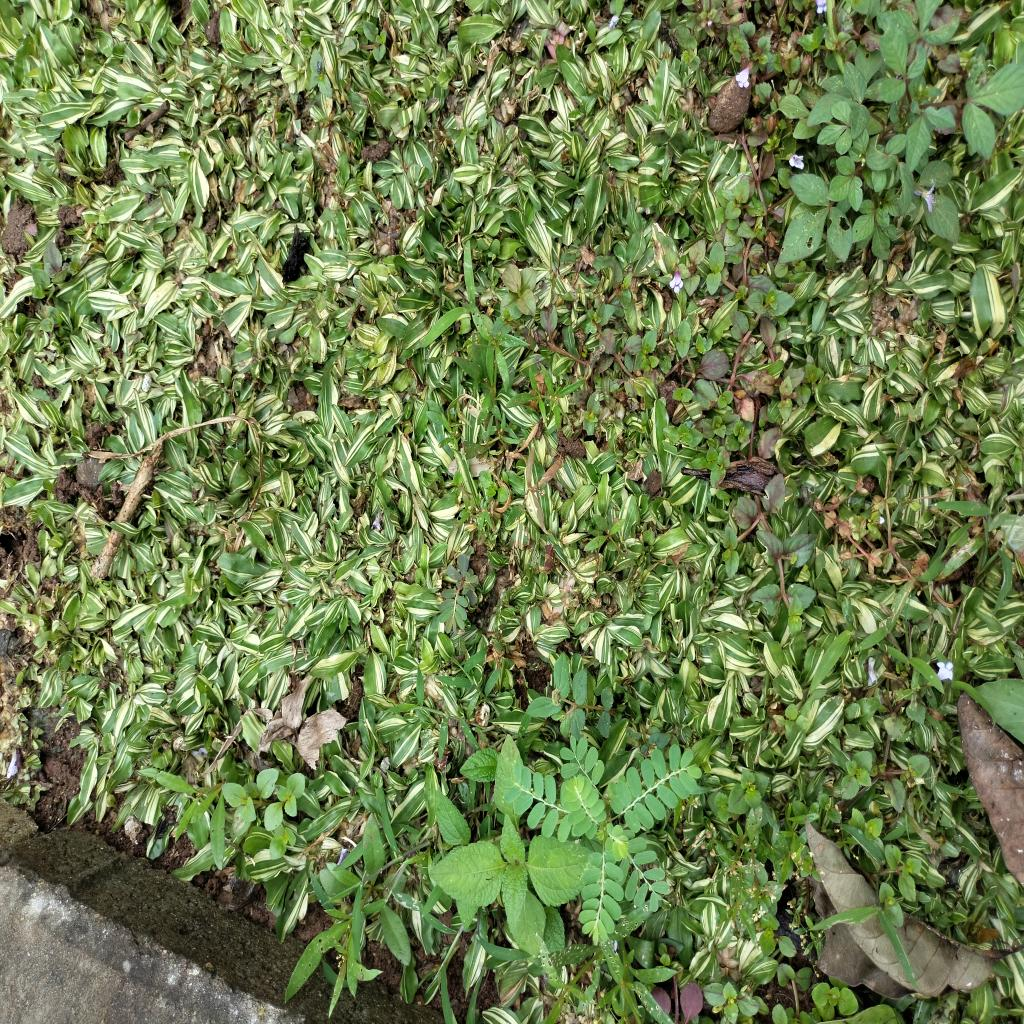buah daun: (510, 731, 703, 946), (436, 552, 480, 635)
daun tiga: (785, 6, 1024, 256)
gingseng jawa: (277, 811, 413, 1024), (530, 939, 678, 1024), (708, 808, 789, 956), (134, 766, 230, 872), (468, 292, 524, 452), (505, 365, 584, 428), (584, 512, 628, 569)
rambat atas: (810, 895, 922, 994), (930, 498, 1023, 591), (332, 838, 428, 921), (804, 628, 869, 697), (881, 643, 947, 698), (429, 924, 465, 1024), (921, 520, 979, 582), (422, 301, 478, 348), (444, 650, 486, 690), (385, 698, 448, 720), (855, 625, 890, 653)
tunggang besar: (428, 732, 599, 954)
tunggang tengah: (528, 649, 624, 739)
ungu tunggang: (680, 229, 794, 363), (674, 0, 823, 77), (736, 479, 819, 617), (676, 362, 757, 487), (581, 259, 659, 380), (220, 770, 308, 832), (776, 962, 859, 1024), (880, 845, 923, 931), (708, 767, 770, 822), (704, 980, 769, 1022), (713, 176, 766, 223), (841, 745, 877, 804), (771, 701, 813, 742), (41, 237, 72, 288), (364, 19, 390, 63), (480, 468, 509, 504), (722, 524, 740, 582)
